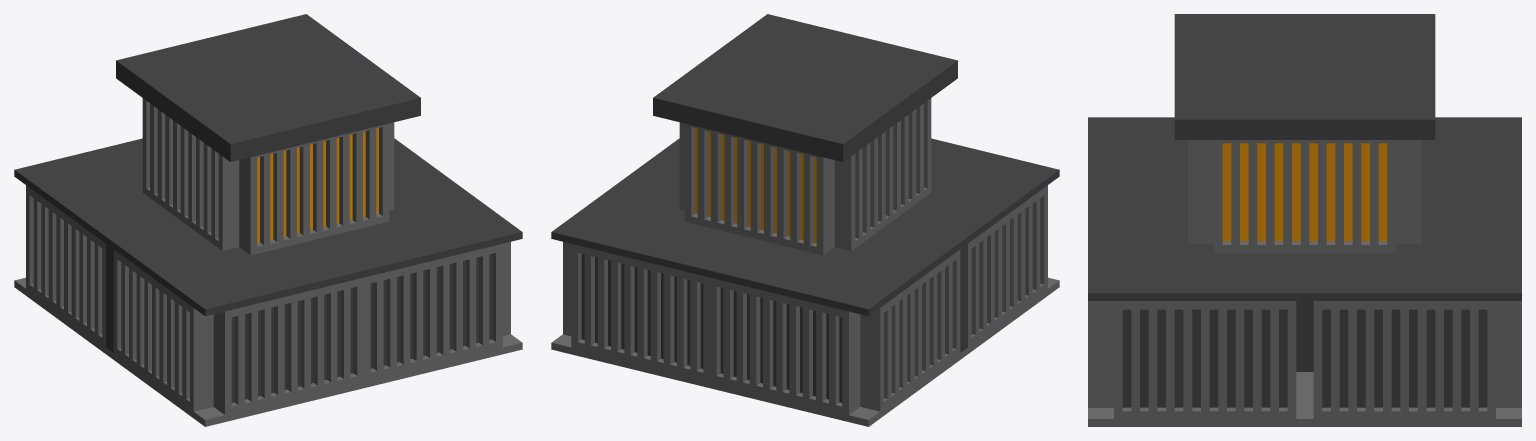
The model's file is Endhous.fbx.
The picture shows the model from 3 angles, left to right: view 1: azimuth 30°, elevation 25°; view 2: azimuth 150°, elevation 25°; view 3: azimuth 270°, elevation 25°; orthographic projection. The views are drawn at different scales.
Parts seen in each view (by area): view 1: Plane, Plane.002, Cube.004, Cube.009, Cube.002, Cube.007, Cube.008, Cube.006, Plane.001, Cube, Cube.010; view 2: Plane, Plane.002, Cube.005, Cube.012, Cube.003, Cube.006, Cube.008, Cube.007, Plane.001, Cube.001, Cube.010; view 3: Plane, Plane.002, Cube, Cube.001, Cube.010, Plane.001, Cube.003, Cube.002, Cube.012, Cube.009.
Part boxes in pixels (x1,y1,x2,y2): Plane: (14, 138, 522, 316); Plane.002: (106, 14, 420, 352); Cube.004: (213, 277, 363, 414); Cube.009: (239, 123, 389, 255); Cube.002: (364, 244, 502, 381); Cube.007: (113, 249, 213, 411); Cube.008: (142, 98, 239, 250); Cube.006: (26, 185, 105, 346); Plane.001: (14, 277, 522, 426); Cube: (502, 242, 510, 335); Cube.010: (389, 122, 394, 210); Plane: (551, 138, 1059, 316); Plane.002: (653, 14, 967, 352); Cube.005: (710, 277, 860, 414); Cube.012: (684, 123, 834, 255); Cube.003: (571, 244, 709, 381); Cube.006: (860, 249, 960, 411); Cube.008: (834, 98, 931, 250); Cube.007: (968, 185, 1047, 346); Plane.001: (551, 277, 1059, 426); Cube.001: (563, 242, 571, 335); Cube.010: (679, 122, 684, 210); Plane: (1088, 117, 1521, 300); Plane.002: (1174, 14, 1435, 371); Cube: (1114, 301, 1296, 418); Cube.001: (1313, 301, 1495, 418); Cube.010: (1214, 140, 1395, 252); Plane.001: (1088, 372, 1521, 426); Cube.003: (1496, 301, 1521, 407); Cube.002: (1088, 301, 1113, 407); Cube.012: (1396, 140, 1421, 243); Cube.009: (1188, 140, 1213, 243).
Size of the model in its own units: 4800 by 3460 by 5000.
